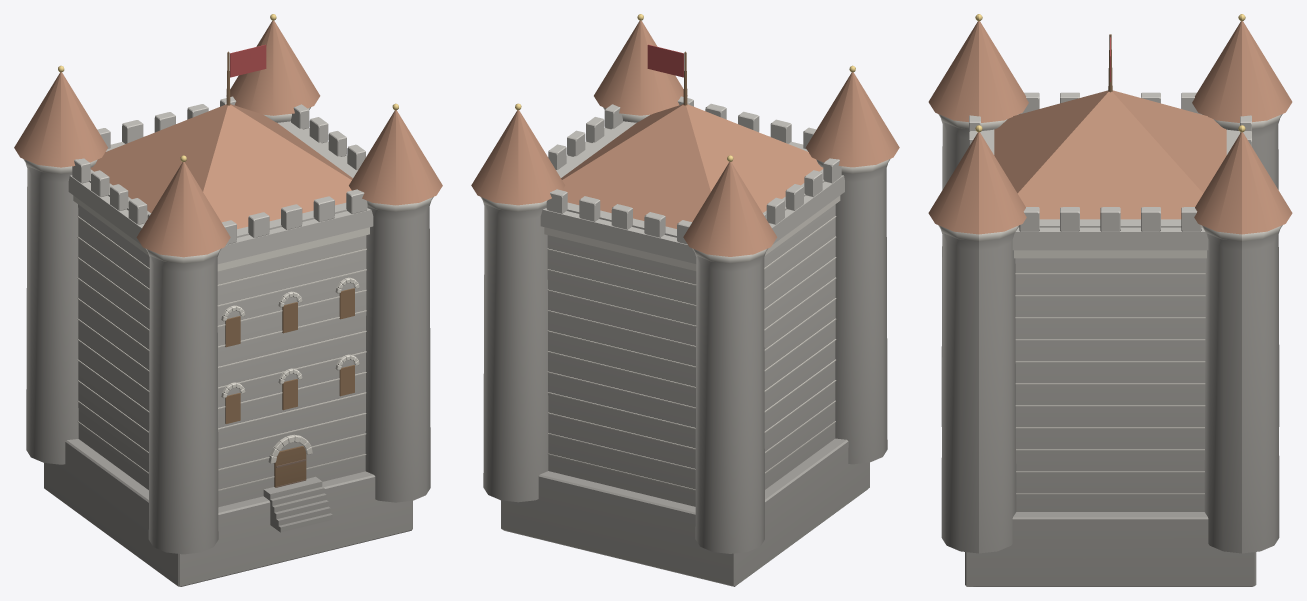
File: bergfried.glb
3 views of the same model, side by side, from view 1: azimuth 30°, elevation 25°; view 2: azimuth 150°, elevation 25°; view 3: azimuth 270°, elevation 25° (orthographic). The views are drawn at different scales.
Visible parts, largest first — view 1: G_bergfried; view 2: G_bergfried; view 3: G_bergfried.
Boxes of the visible parts, left/top/right/bottom form: G_bergfried: left=14, top=14, right=442, bottom=586; G_bergfried: left=471, top=14, right=899, bottom=586; G_bergfried: left=928, top=14, right=1292, bottom=586.
Size of the model in its own units: 18 by 26.8 by 18.
